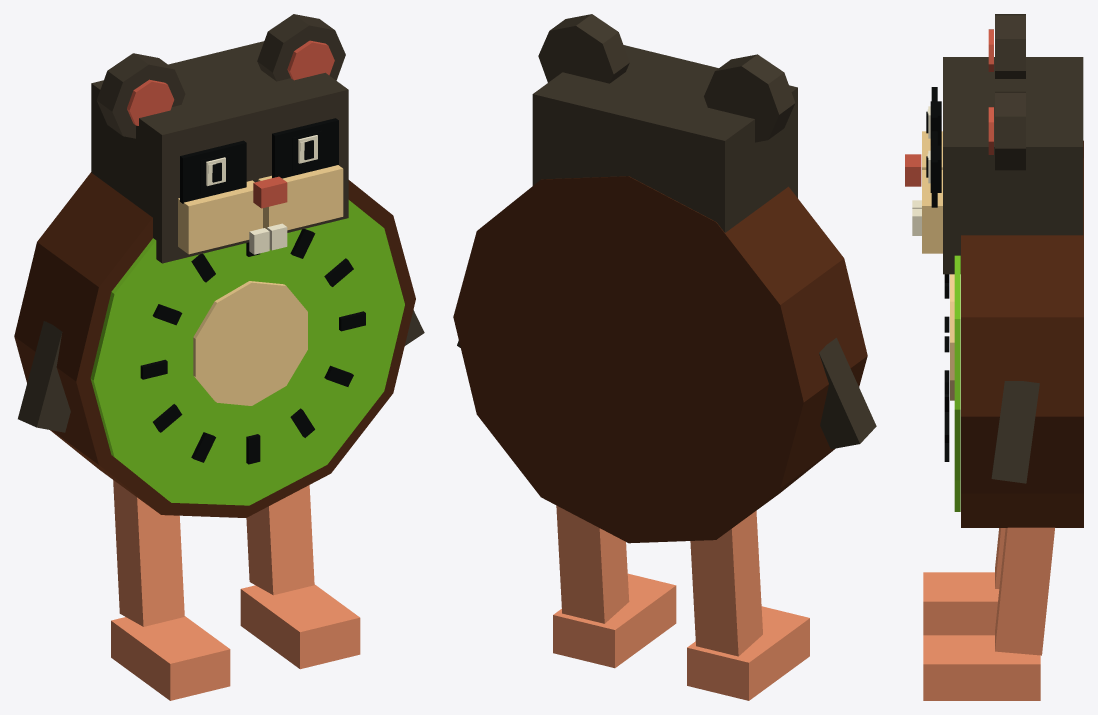
Rendered from PipiKiwi_Mini.glb.
3 views of the same model, side by side, from view 1: azimuth 30°, elevation 25°; view 2: azimuth 150°, elevation 25°; view 3: azimuth 270°, elevation 25° (orthographic). The views are drawn at different scales.
Visible parts, largest first — view 1: PipiKiwi_Mini; view 2: PipiKiwi_Mini; view 3: PipiKiwi_Mini.
Part boxes in pixels (left/top/right/bottom): PipiKiwi_Mini: left=14, top=14, right=424, bottom=700; PipiKiwi_Mini: left=453, top=14, right=876, bottom=700; PipiKiwi_Mini: left=905, top=14, right=1083, bottom=700.
Size of the model in its own units: 1.35 by 2 by 0.5397.
Materials: 1 (1 with a texture image).
